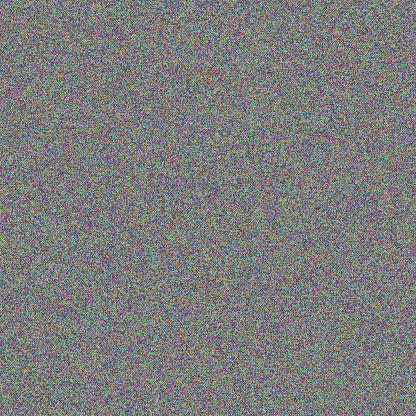empty: (222, 116, 316, 221), (52, 203, 142, 298), (243, 265, 302, 367)
